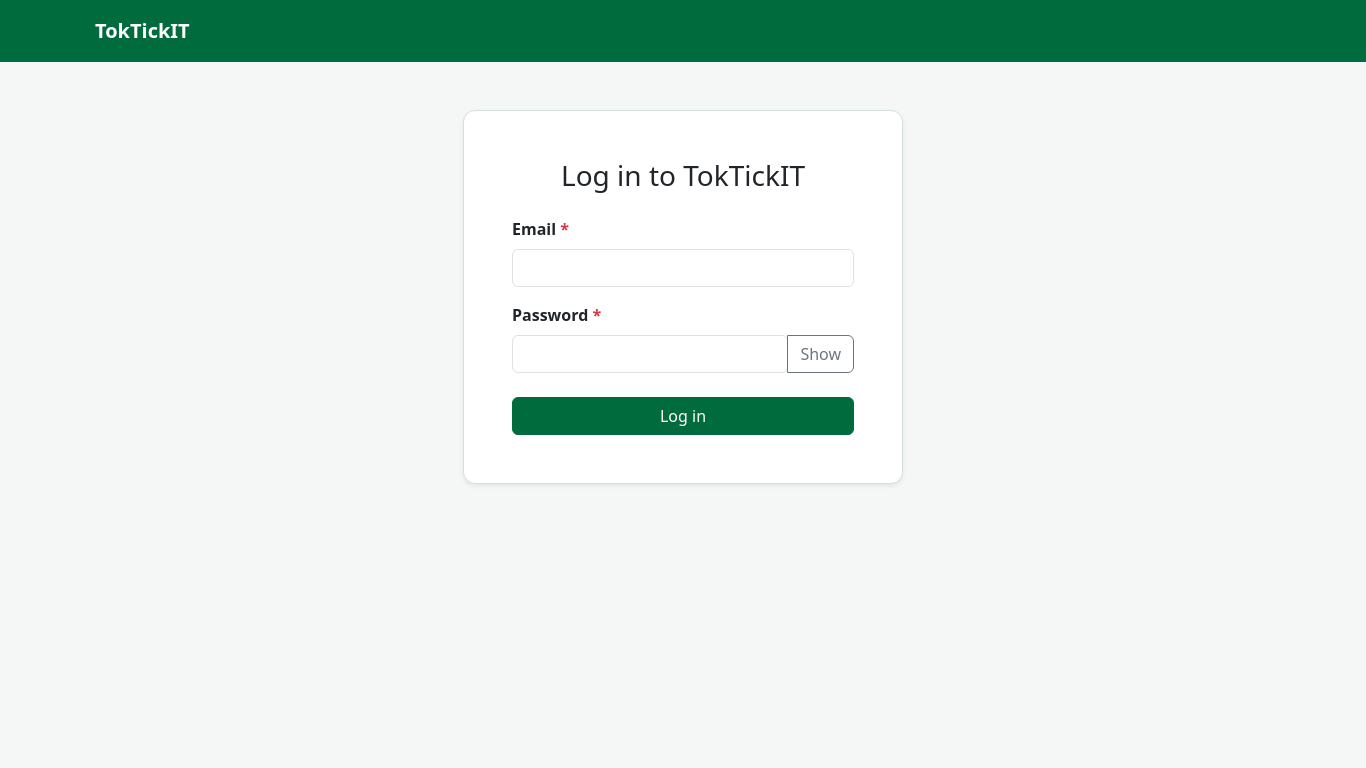
Login › shows a generic message for invalid credentials and keeps the email
This screenshot has width=1366, height=768.
Type "jennifer.anderson@example.com" into the field labelled "Email *" at (683,268), box x1=512 y1=249 x2=854 y2=287
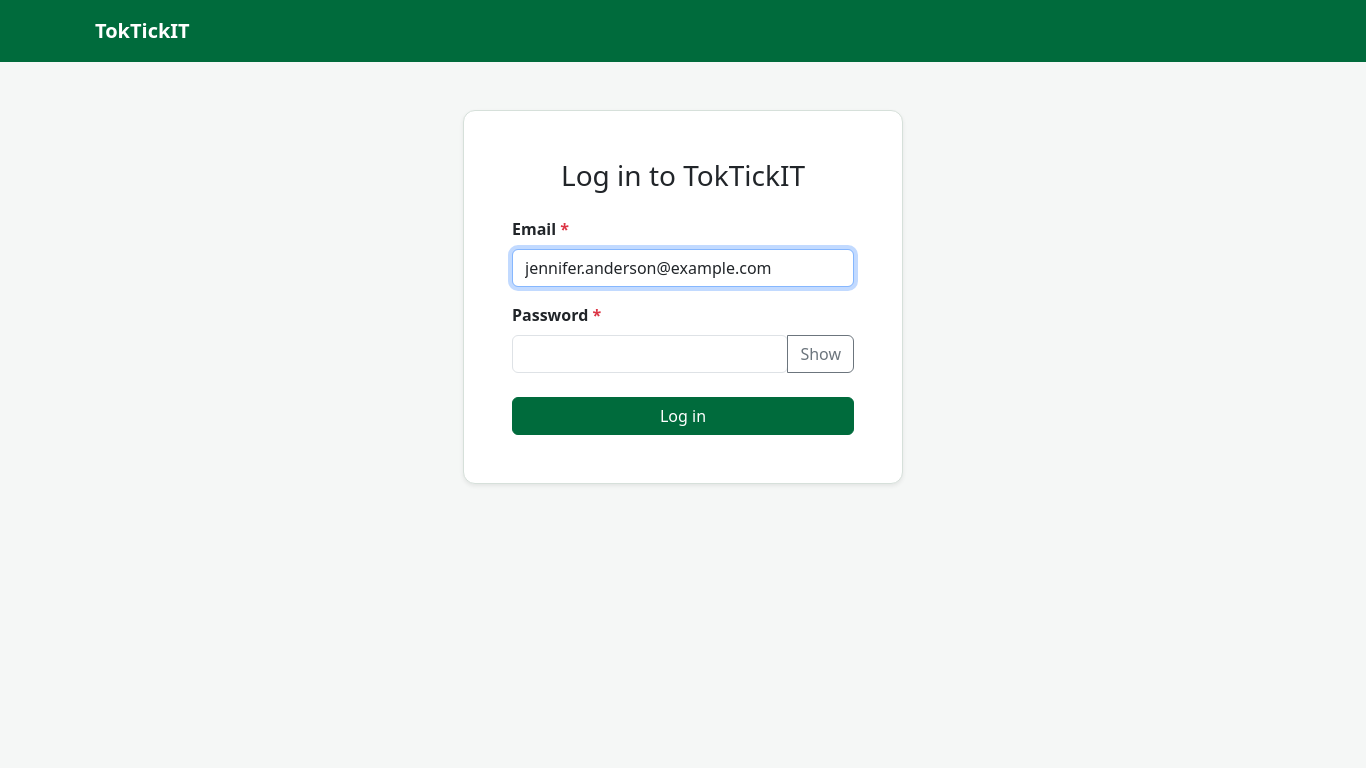
Type "WrongPass999" into the password field labelled "Password *" at (650,354), box x1=512 y1=335 x2=788 y2=373
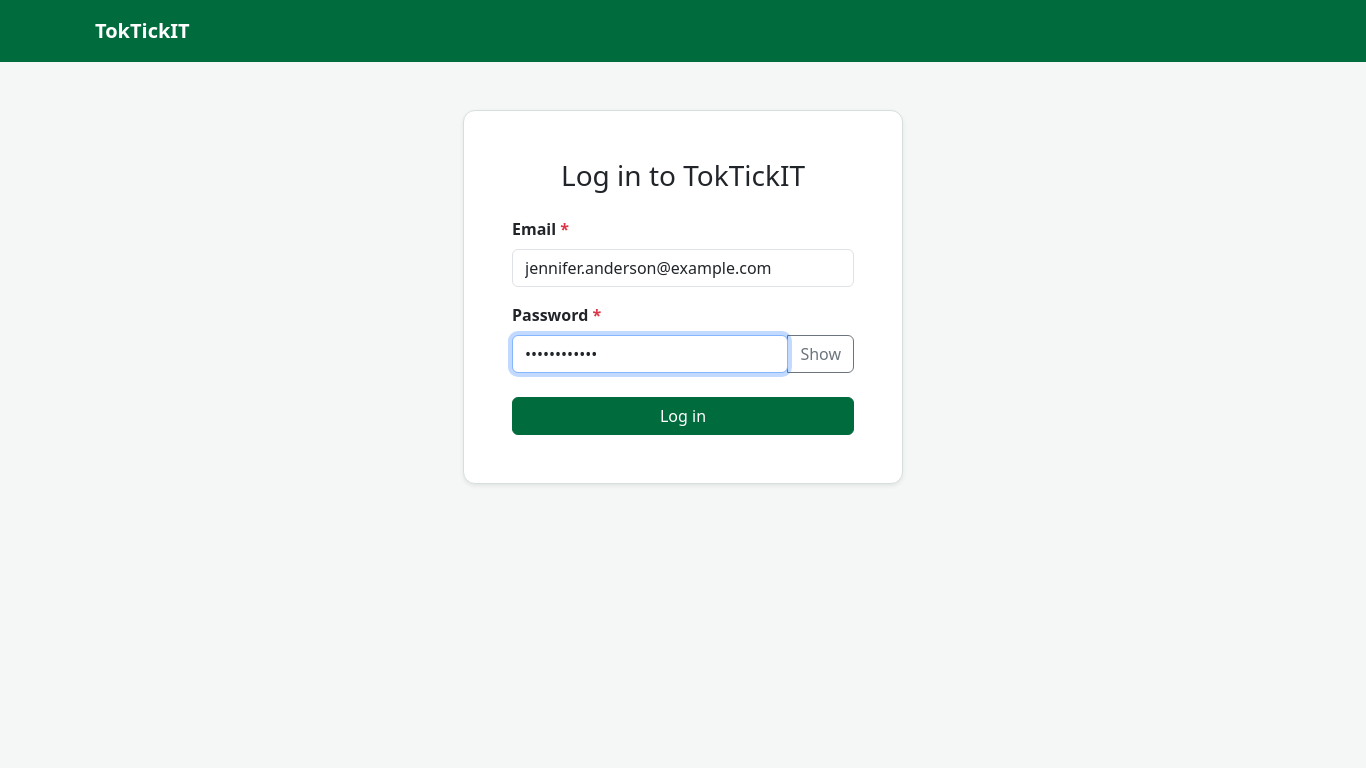
Click the button "Log in" at (683,416), box x1=512 y1=397 x2=854 y2=435
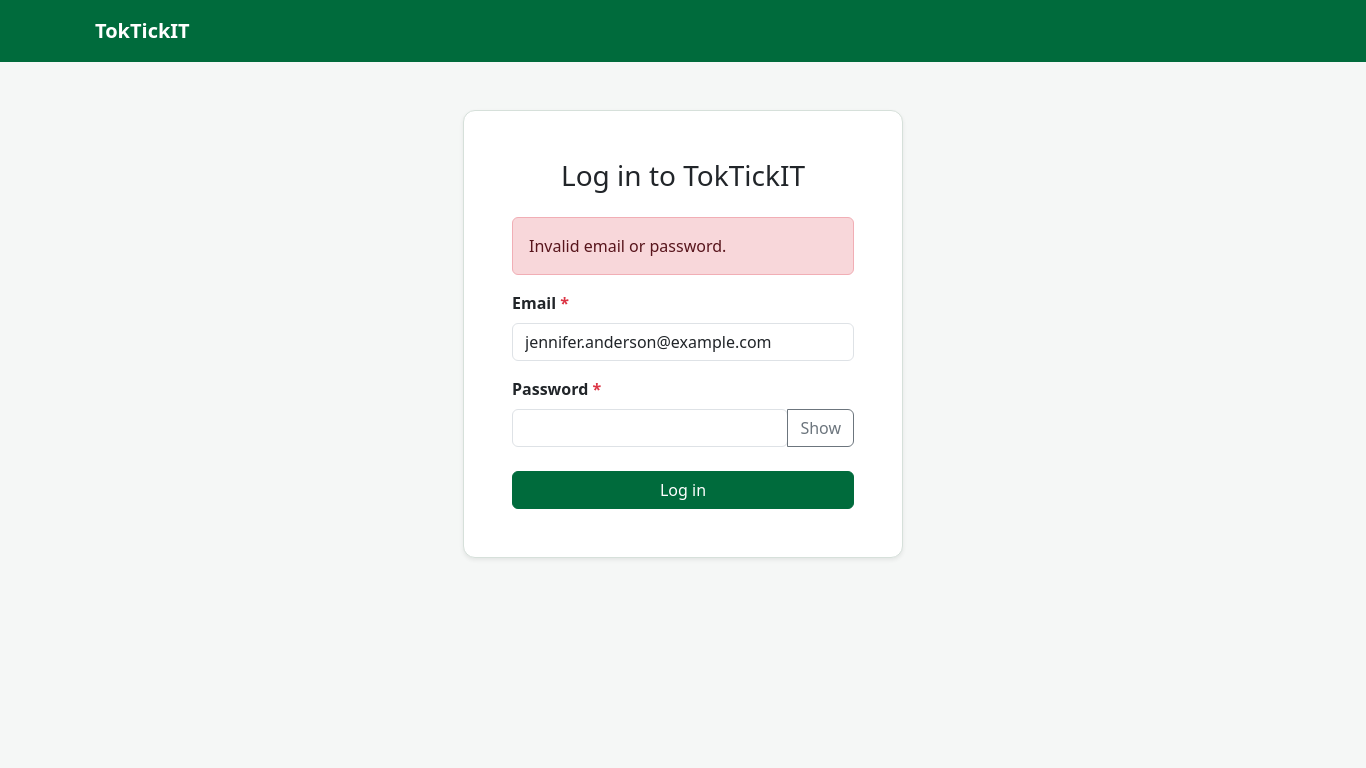
Expected: the button "Log in" is enabled, x1=512 y1=471 x2=854 y2=509
Result: the message reads "Invalid email or password." at x1=529 y1=235 x2=726 y2=257
Result: the password field labelled "Password *" is empty at x1=512 y1=409 x2=788 y2=447
